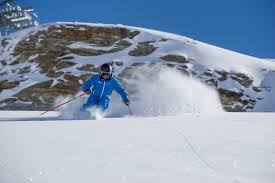skier: (54, 56, 142, 125)
